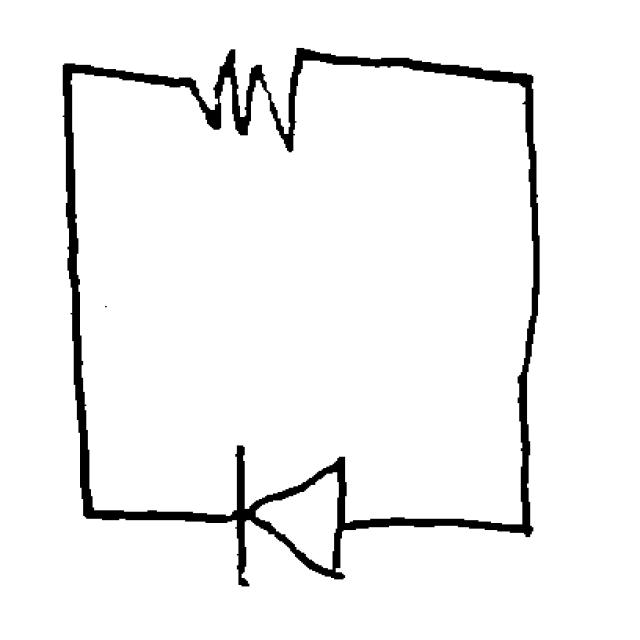diode: (194, 423, 388, 609)
resistor: (158, 35, 342, 161)
